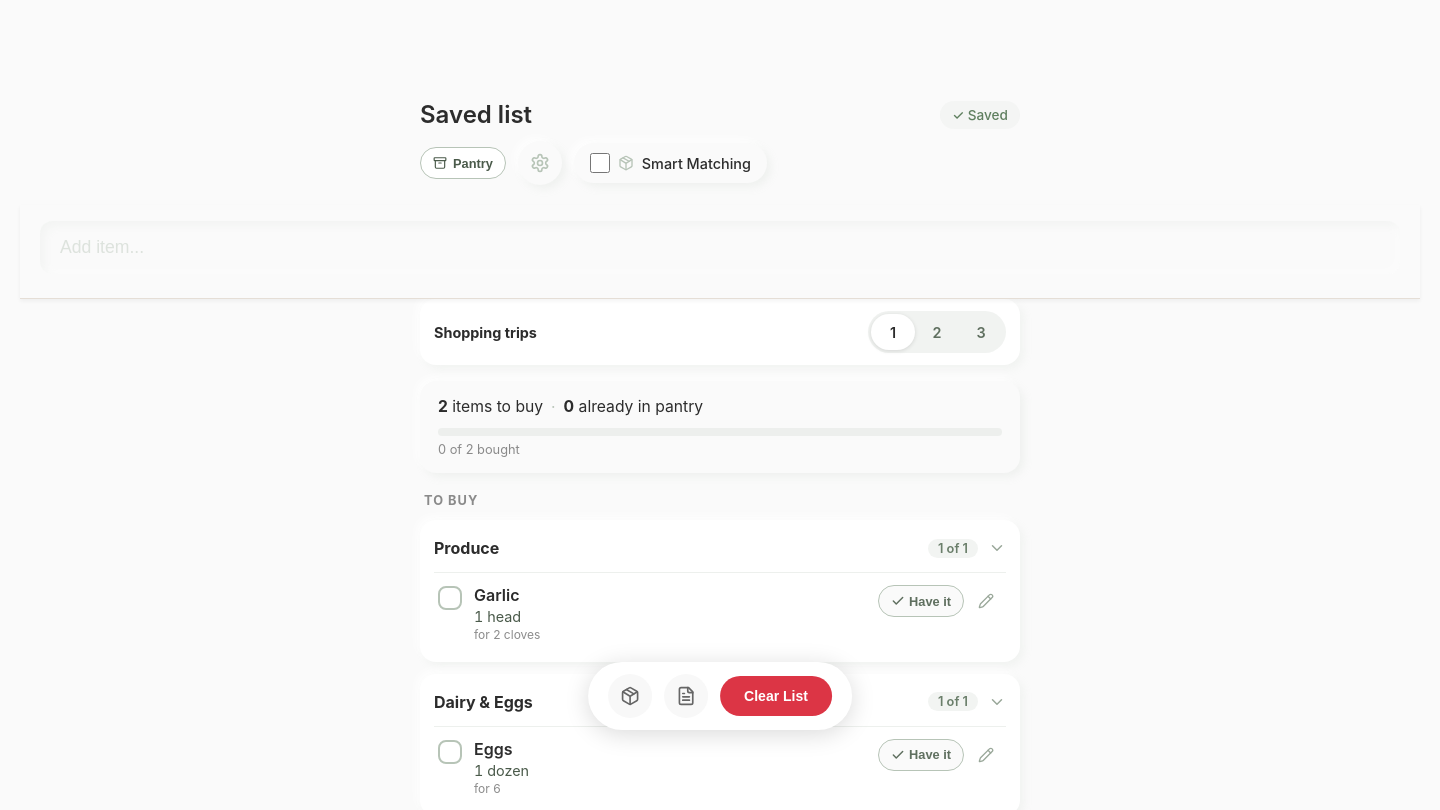
Scenario: "Have it" moves the item with a toast; Undo puts it back and reverses the pantry change
This screenshot has width=1440, height=810.
Later steps or results of the test are not shown.
expect the heading "Saved list" is shown: met, box [420,100,532,129]
Click the button with aria-label "Eggs: I have it, move to Already have" at [921, 755], box [878,739,964,771]
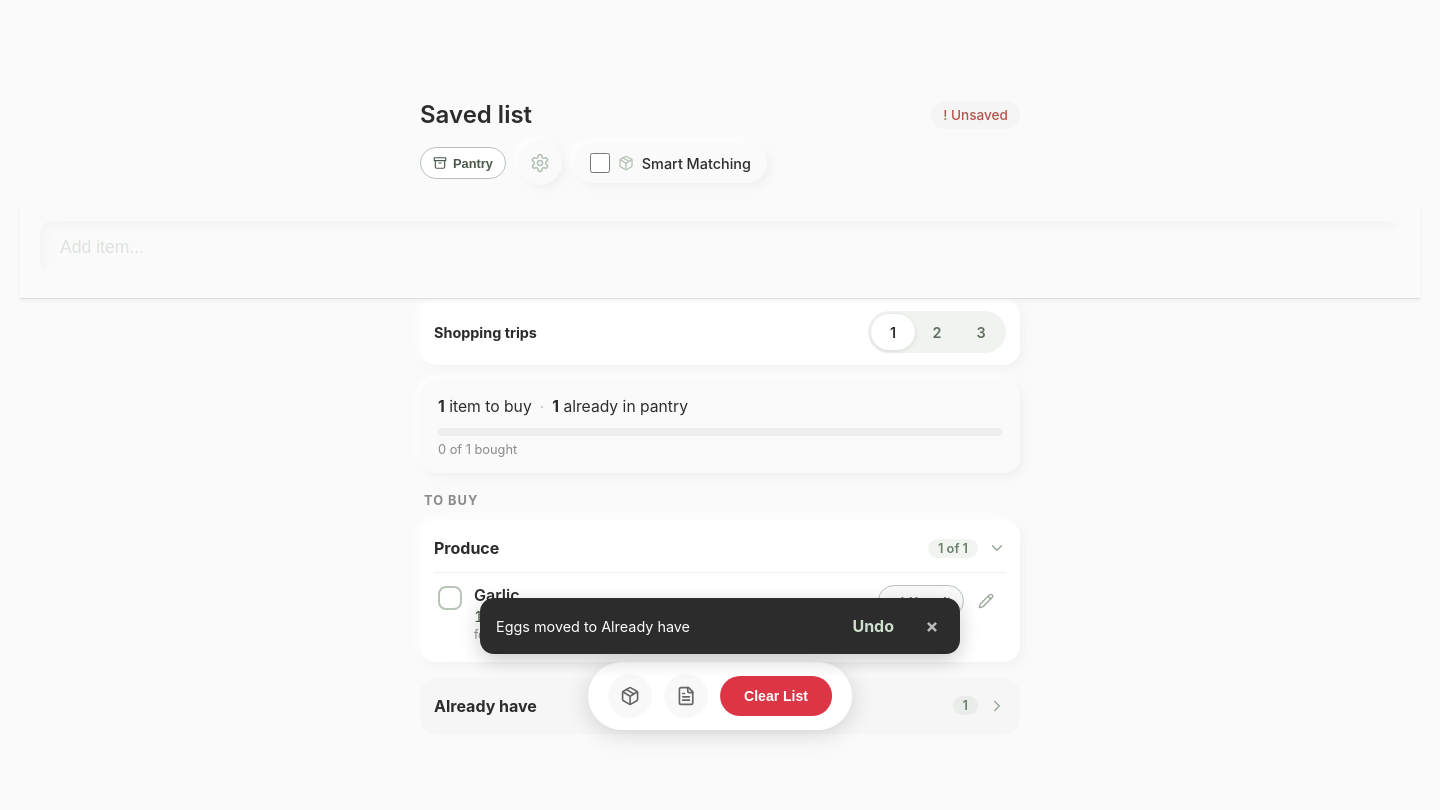
expect the message "Eggs moved to Already have Undo ×" is shown: met, box [480,598,960,654]
expect the button "Already have 1" is shown: met, box [434,682,1006,730]
Click the button "Undo" at [873, 626], box [840,608,906,644]
Wait 2000 ms
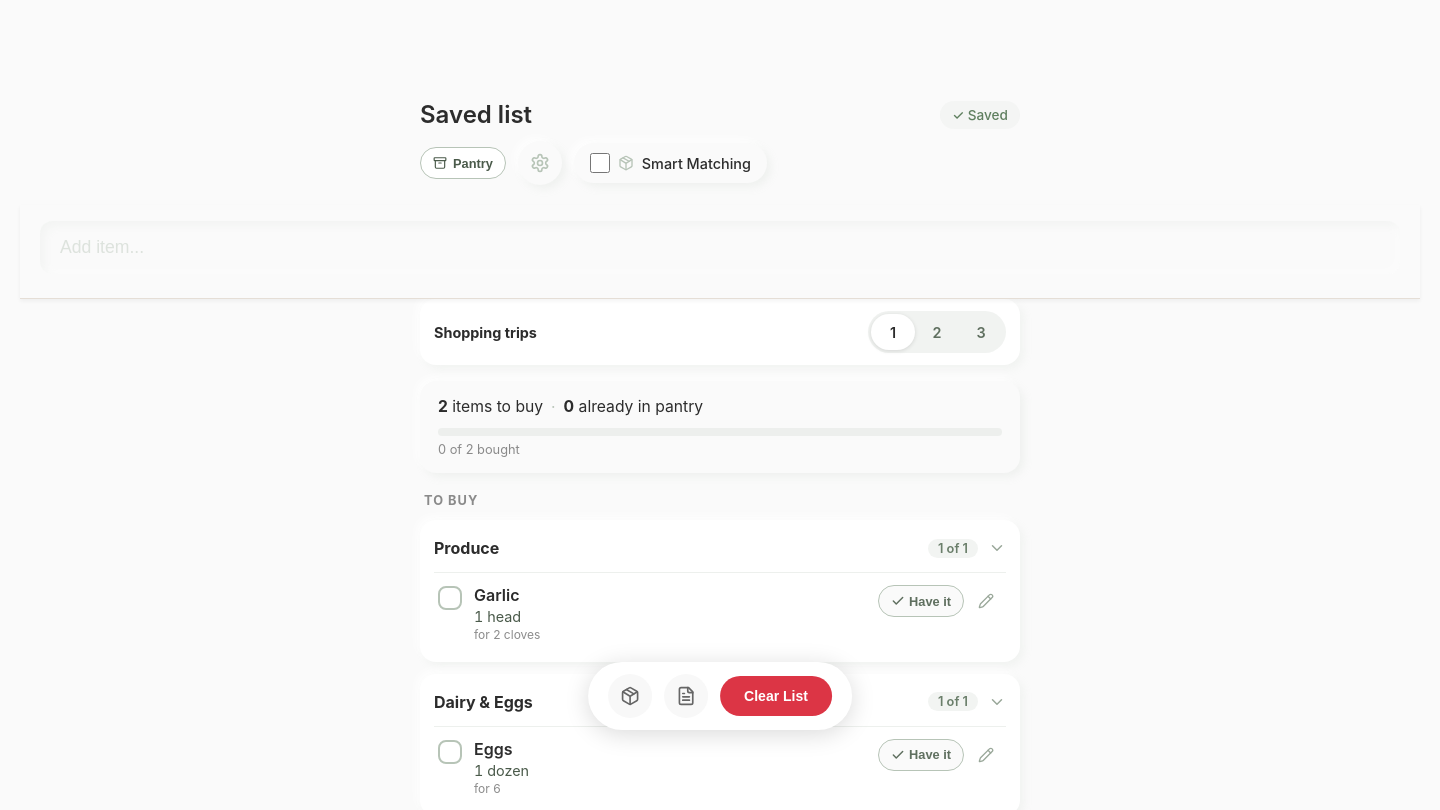
expect the checkbox named "Mark Eggs as bought" is shown: met, box [438,740,462,764]
expect the text "Eggs moved to Already have" is gone: met
